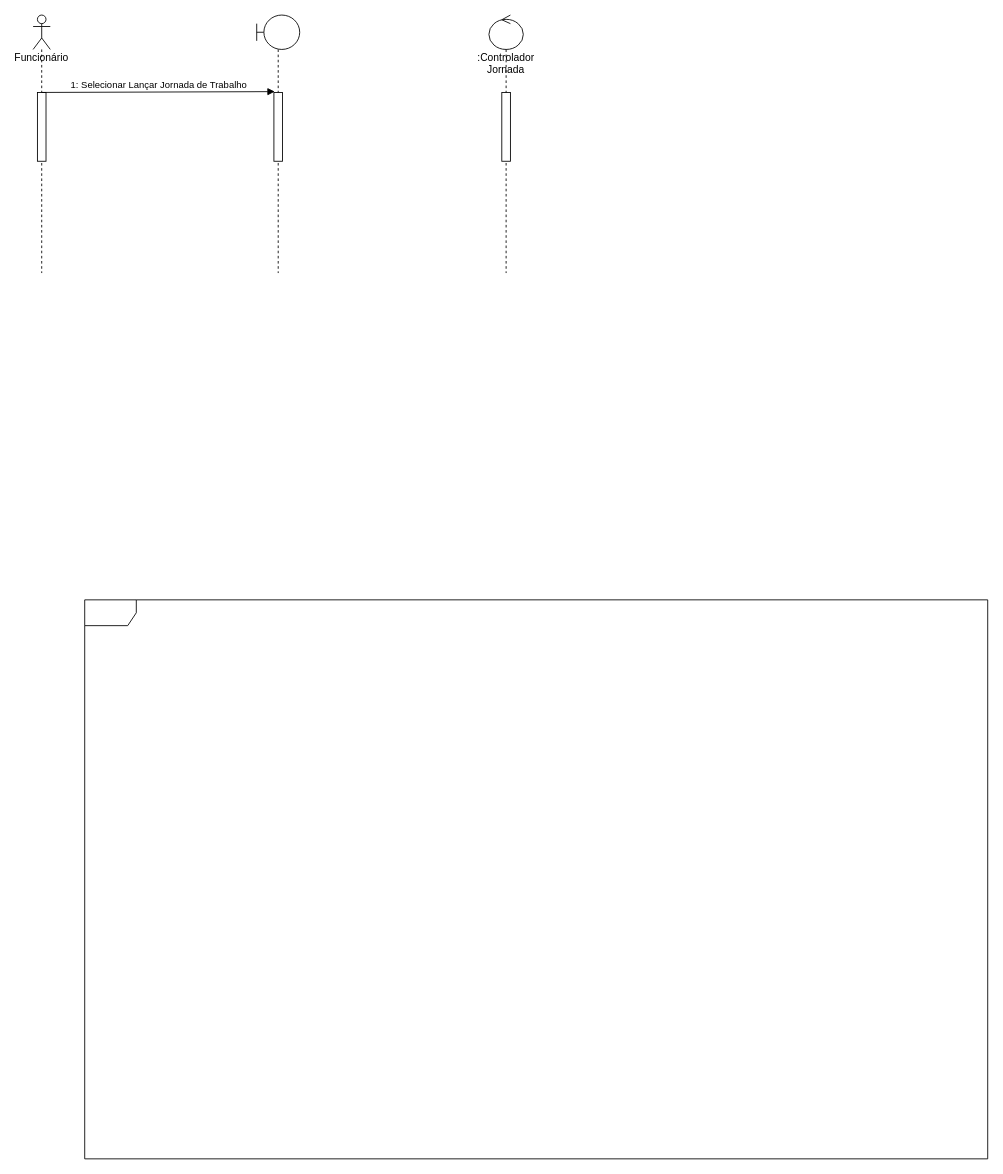
Some shapes in this 1003 by 1174 pixel diagram are drawn without their labels. The box of each missing label's shape, as (x1, y1, x2, y2) in pixels:
:Interface Jornada: (256, 14, 300, 273)
Lançar Jornada: (84, 599, 988, 1159)
